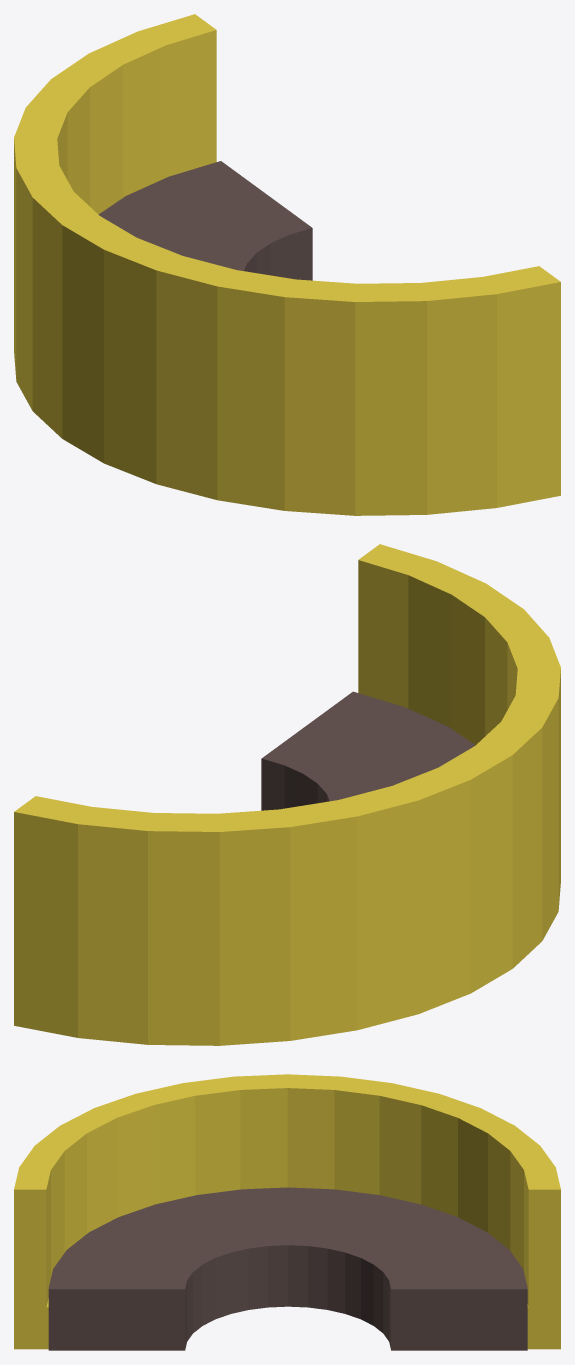
Rendered from circularseat.fbx.
3 views of the same model, one above another, from view 1: azimuth 30°, elevation 25°; view 2: azimuth 150°, elevation 25°; view 3: azimuth 270°, elevation 25° (orthographic). The views are drawn at different scales.
Visible parts, largest first — view 1: Cylinder.065, Cylinder.064; view 2: Cylinder.065, Cylinder.064; view 3: Cylinder.065, Cylinder.064.
Part boxes in pixels (left/top/right/bottom): Cylinder.065: left=14, top=14, right=560, bottom=515; Cylinder.064: left=98, top=161, right=312, bottom=280; Cylinder.065: left=14, top=544, right=560, bottom=1045; Cylinder.064: left=261, top=691, right=475, bottom=810; Cylinder.065: left=14, top=1074, right=560, bottom=1349; Cylinder.064: left=48, top=1187, right=527, bottom=1350.
Bounding box in the file's own units: 1970 × 1260 × 3908.
